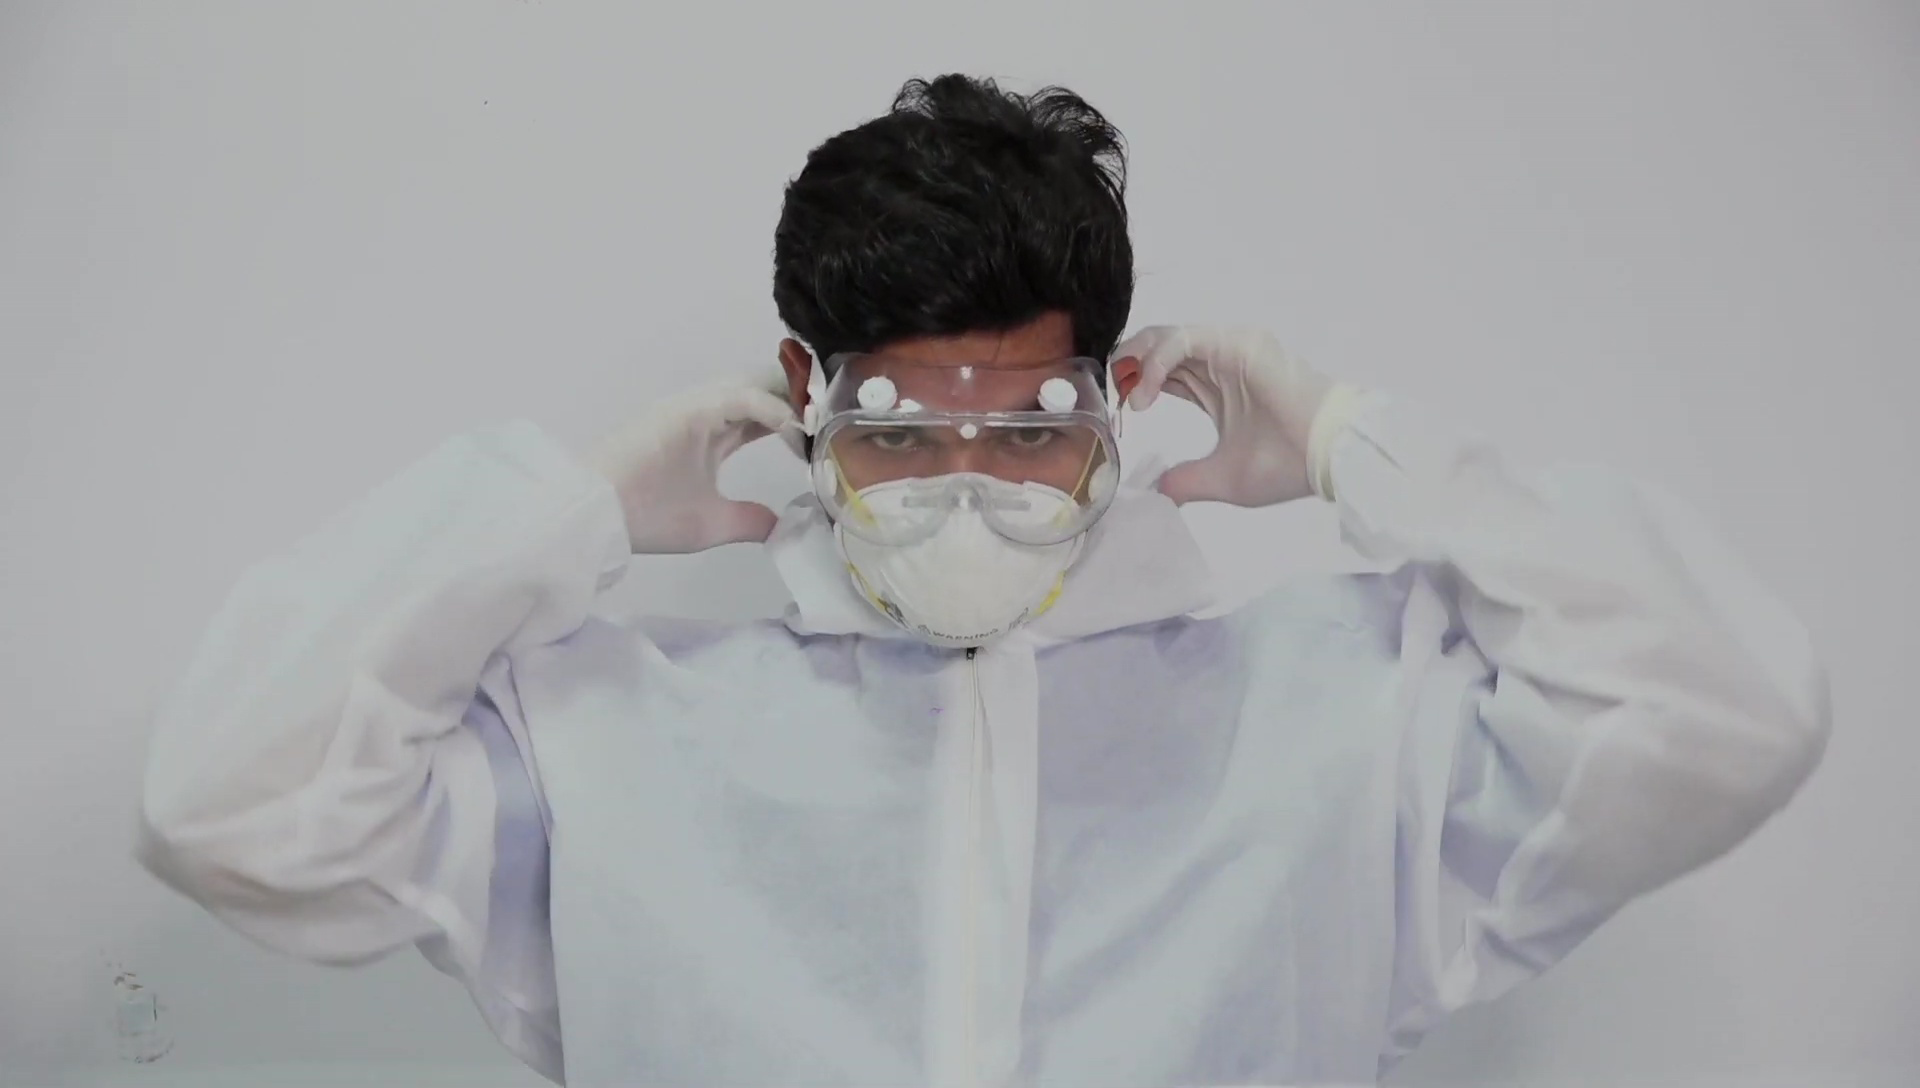Coverall: (112, 398, 1813, 1088)
Gloves: (1111, 321, 1328, 512), (598, 368, 807, 559)
Goggles: (810, 350, 1124, 553)
with_mask: (833, 423, 1087, 654)
